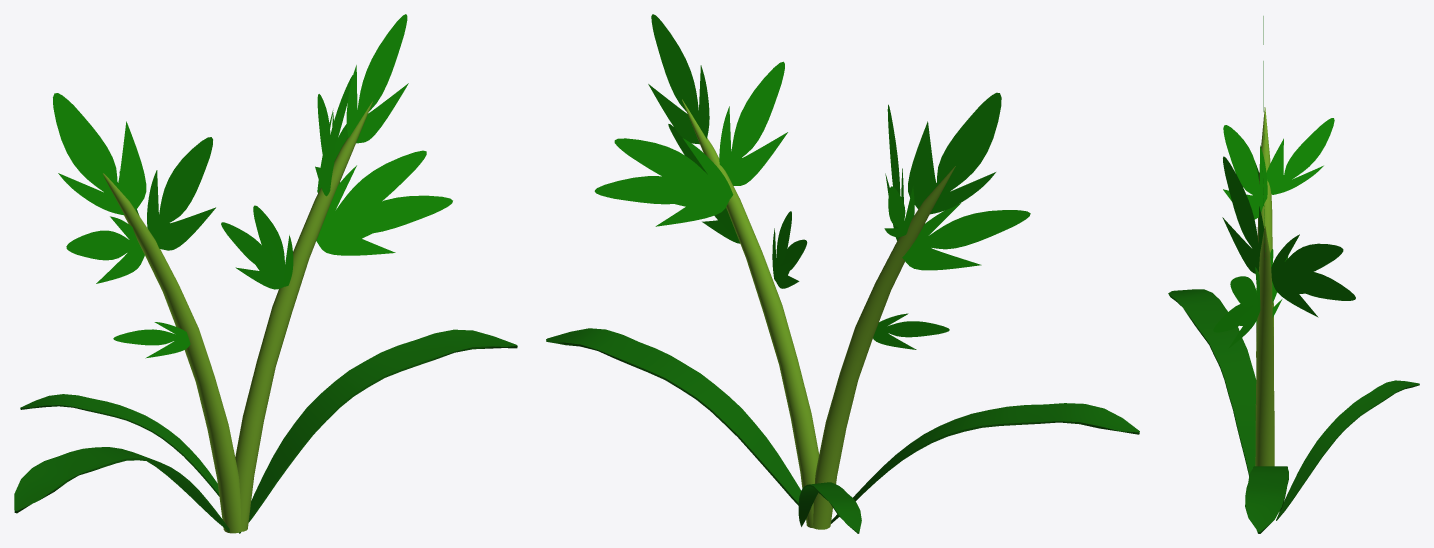
Rendered from 紅蘿蔔生長1.FBX.
3 renders of one model, left to right at view 1: azimuth 30°, elevation 25°; view 2: azimuth 150°, elevation 25°; view 3: azimuth 270°, elevation 25°, orthographic. The views are drawn at different scales.
Visible parts, largest first — view 1: Cylinder001, Box002, Cylinder002, Line068, Line074, Box003, Line070, Line071, Box004, Line072, Line069, Line077 (+3 smaller); view 2: Box002, Cylinder001, Cylinder002, Line068, Box003, Line078, Line073, Line069, Line071, Line079, Box004, Line075 (+3 smaller); view 3: Box003, Cylinder001, Box004, Line080, Line079, Box002, Line073, Line070, Line078, Line072, Cylinder002, Line074.
Boxes of the visible parts, x1=… form: Cylinder001: x1=235, y1=101, x2=372, y2=531; Box002: x1=239, y1=329, x2=517, y2=533; Cylinder002: x1=103, y1=173, x2=241, y2=533; Line068: x1=53, y1=93, x2=146, y2=215; Line074: x1=317, y1=186, x2=452, y2=255; Box003: x1=14, y1=447, x2=229, y2=531; Line070: x1=147, y1=137, x2=215, y2=250; Line071: x1=346, y1=14, x2=408, y2=143; Box004: x1=20, y1=394, x2=219, y2=496; Line072: x1=316, y1=150, x2=426, y2=241; Line069: x1=66, y1=216, x2=144, y2=283; Line077: x1=221, y1=222, x2=284, y2=289; Box002: x1=546, y1=328, x2=801, y2=505; Cylinder001: x1=682, y1=99, x2=818, y2=528; Cylinder002: x1=812, y1=166, x2=955, y2=529; Line068: x1=908, y1=92, x2=1001, y2=214; Box003: x1=831, y1=403, x2=1139, y2=523; Line078: x1=614, y1=138, x2=733, y2=210; Line073: x1=719, y1=61, x2=787, y2=185; Line069: x1=902, y1=203, x2=1030, y2=270; Line071: x1=648, y1=14, x2=709, y2=144; Line079: x1=594, y1=176, x2=731, y2=226; Box004: x1=798, y1=482, x2=861, y2=533; Line075: x1=873, y1=313, x2=949, y2=349; Box003: x1=1168, y1=289, x2=1256, y2=476; Cylinder001: x1=1255, y1=226, x2=1274, y2=466; Box004: x1=1276, y1=380, x2=1419, y2=520; Line080: x1=1266, y1=118, x2=1334, y2=194; Line079: x1=1272, y1=259, x2=1355, y2=317; Box002: x1=1245, y1=466, x2=1288, y2=533; Line073: x1=1222, y1=156, x2=1264, y2=273; Line070: x1=1223, y1=125, x2=1267, y2=219; Line078: x1=1271, y1=234, x2=1343, y2=293; Line072: x1=1230, y1=267, x2=1259, y2=325; Cylinder002: x1=1255, y1=107, x2=1274, y2=464; Line074: x1=1213, y1=296, x2=1260, y2=348.
Bounding box in the file's own units: 51.98 × 43.63 × 23.31.
